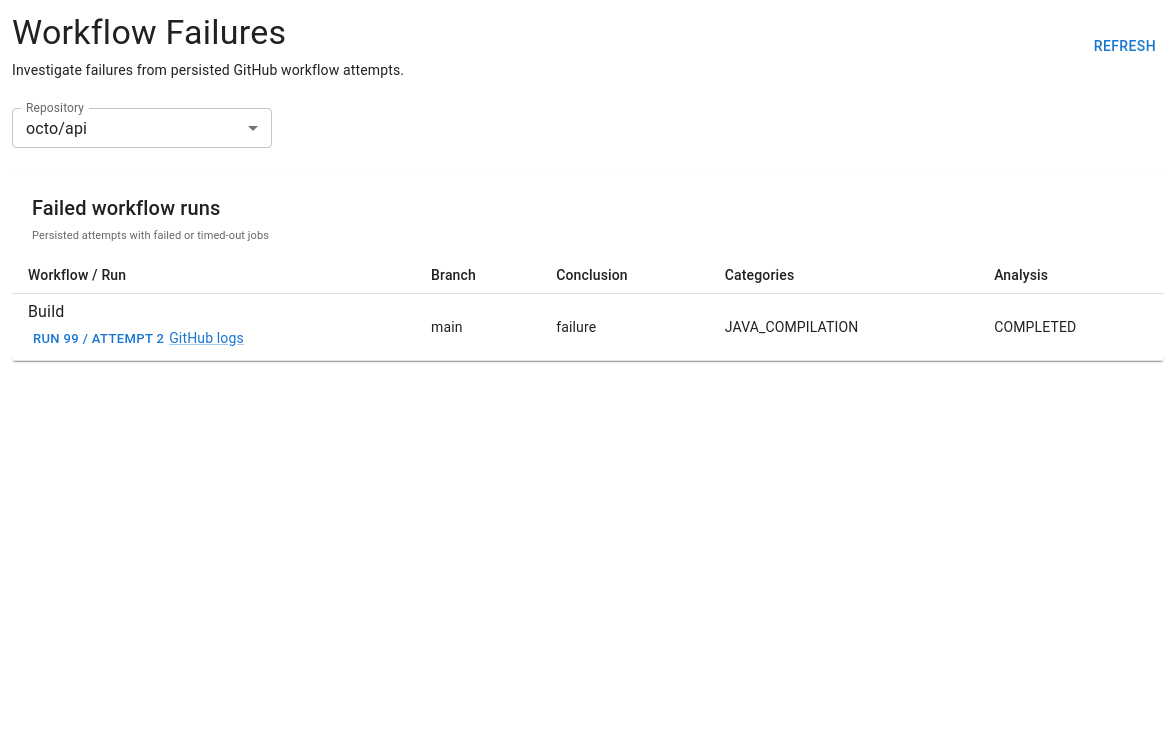
it: persisted workflow failures › surfaces detail errors and unavailable logs without fabricating an analysis
Click the button "Run 99 / attempt 2" at point(99, 339), box 28,324 -> 169,354
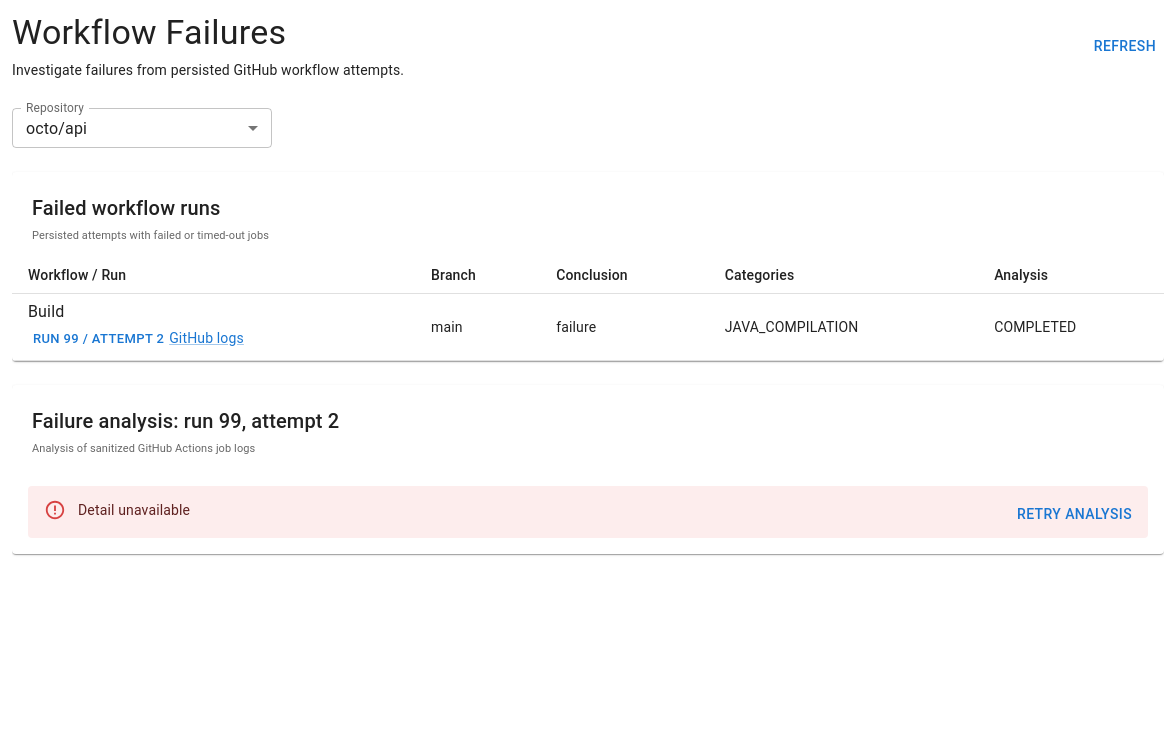
Expected: the text "Detail unavailable" is shown, 78,502 -> 190,518
Click the button "Retry analysis" at point(1074, 514), box 1009,496 -> 1140,532
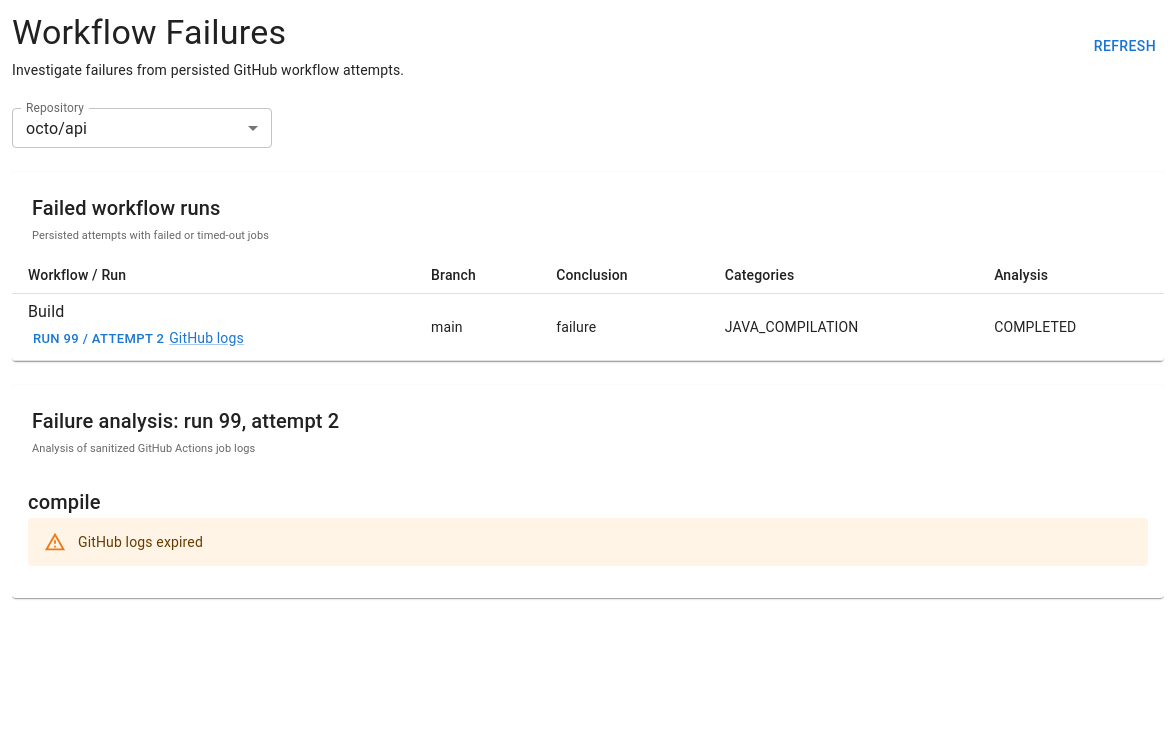
Expected: the text "GitHub logs expired" is shown, 78,534 -> 203,550
